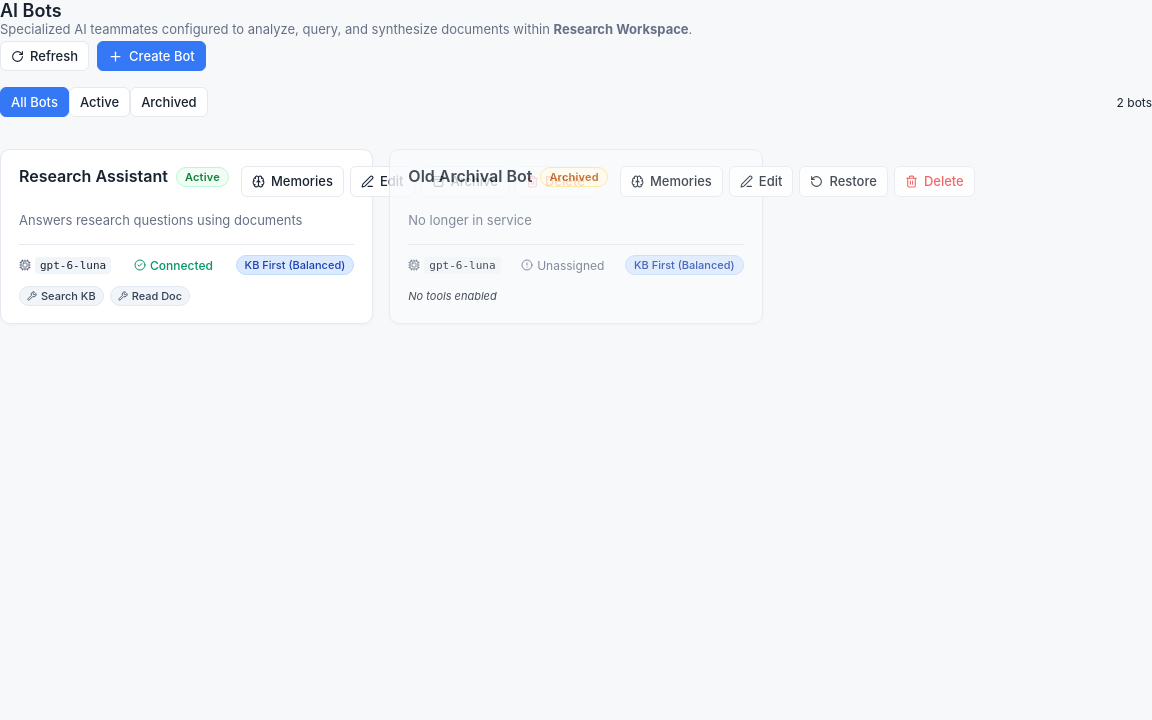
WorkspaceBotsPage Integration (Phase 6 Step 6.6) › 4. Edit Bot Workflow › opens EditBotModal and updates existing Bot
Expected: the heading "Research Assistant" is shown, [19,166,168,187]
Click the 1st button "Edit" at (382, 182), box [350,166,414,197]
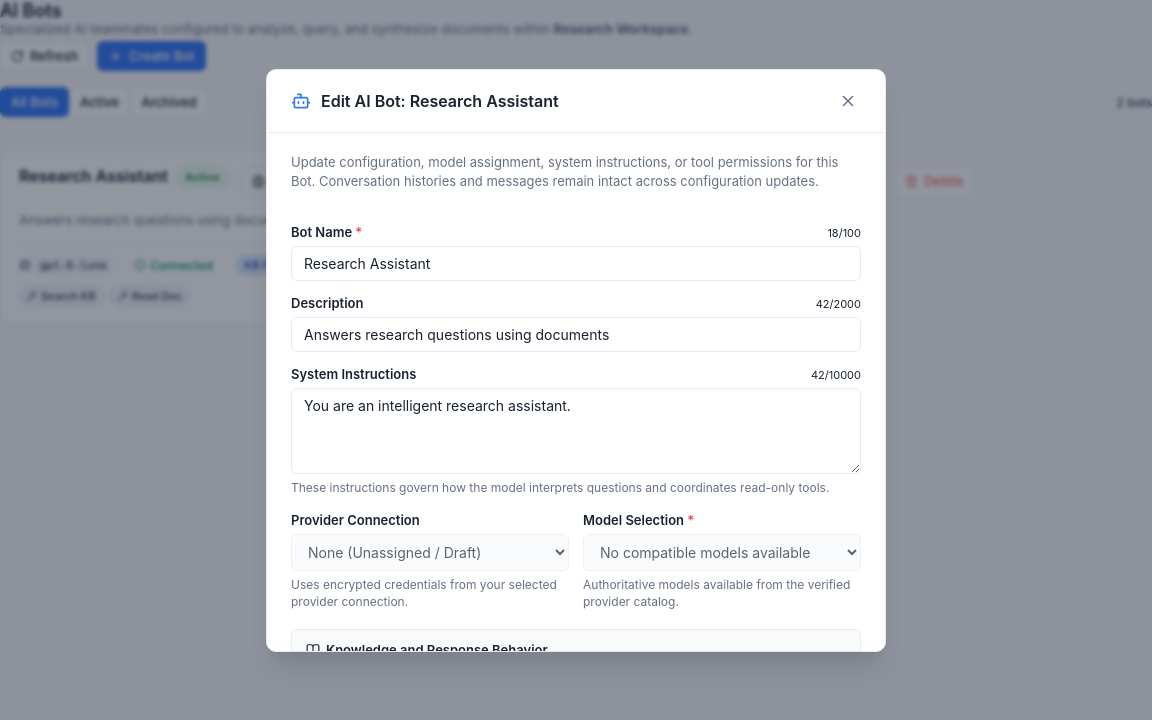
Expected: the dialog with test id "edit-bot-modal" is shown, [266,68,886,652]
Expected: the field with test id "bot-name-input" holds "Research Assistant"
Replace the text in the field with test id "bot-name-input" with "Updated Assistant" at (576, 263), box [291,246,861,280]
(page scrolled)
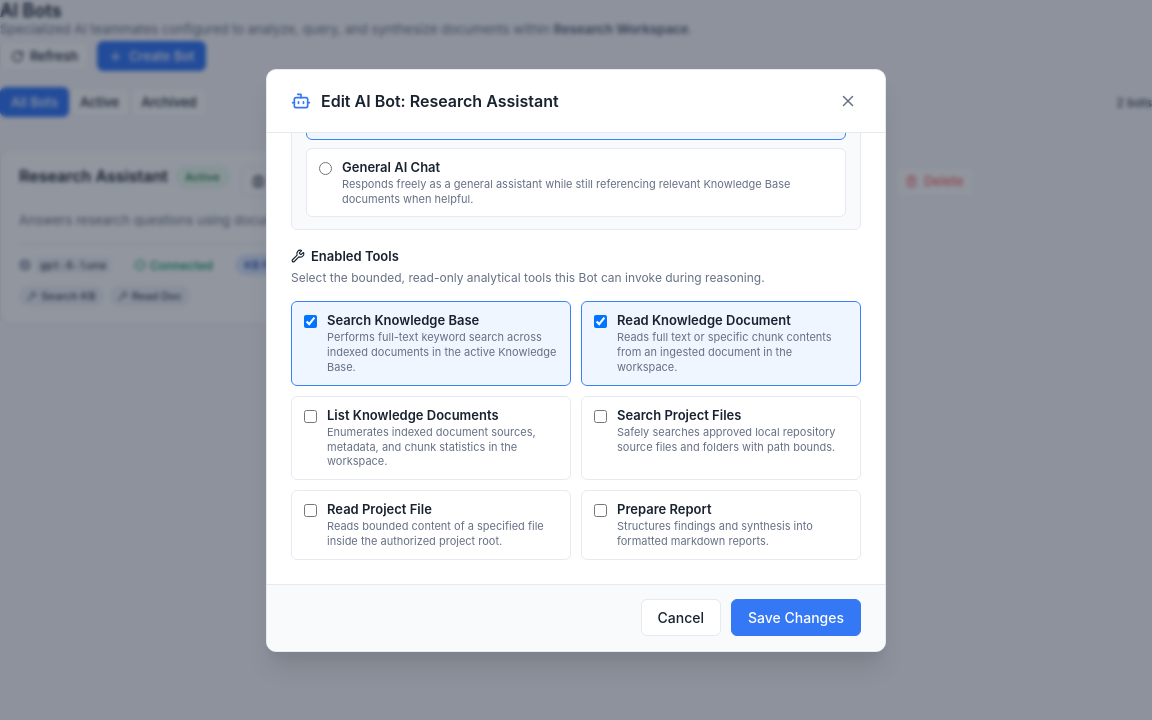
Click the button with test id "bot-form-submit-btn" at (796, 618), box [731,599,861,636]
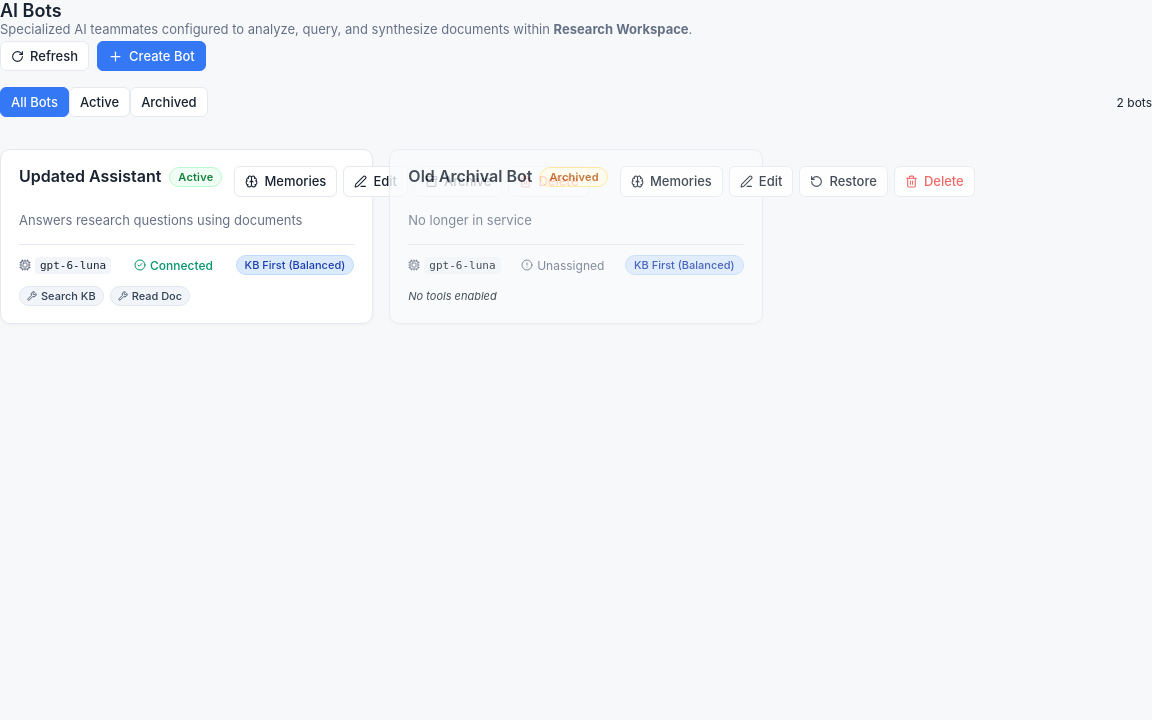
Expected: the dialog with test id "edit-bot-modal" is gone
Expected: the heading "Updated Assistant" is shown, [19,166,161,187]
